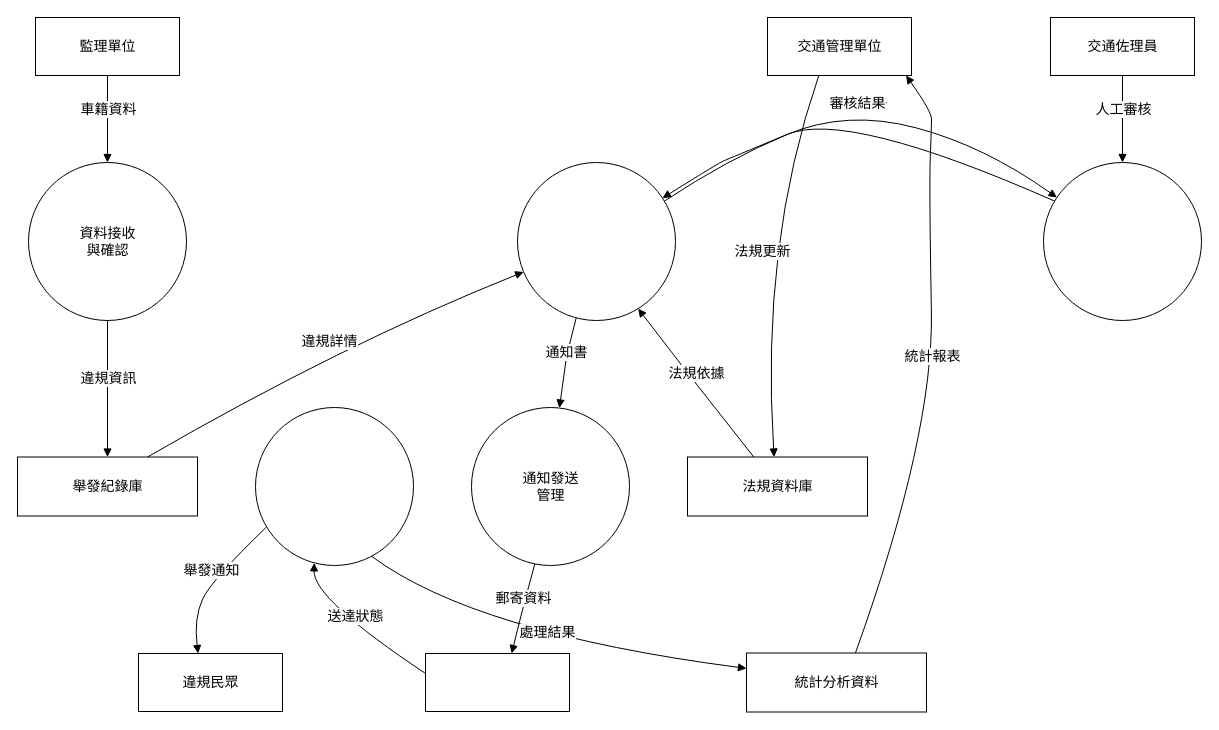
This 1219x730 diagram has some shape labels left out. The box of each missing label's shape, as (x1, y1, x2, y2) in pixels:
特殊案件 審核: (1042, 162, 1202, 320)
狀態追蹤: (254, 406, 414, 566)
通知書 產生: (516, 162, 676, 320)
郵務系統: (424, 652, 570, 712)
